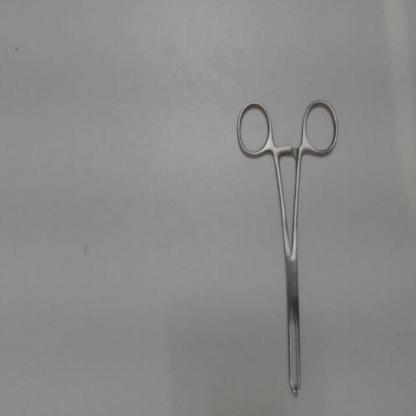Allis Tissue Forceps: (232, 96, 346, 405)
